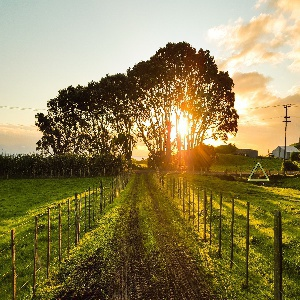triangle: (246, 159, 270, 183)
